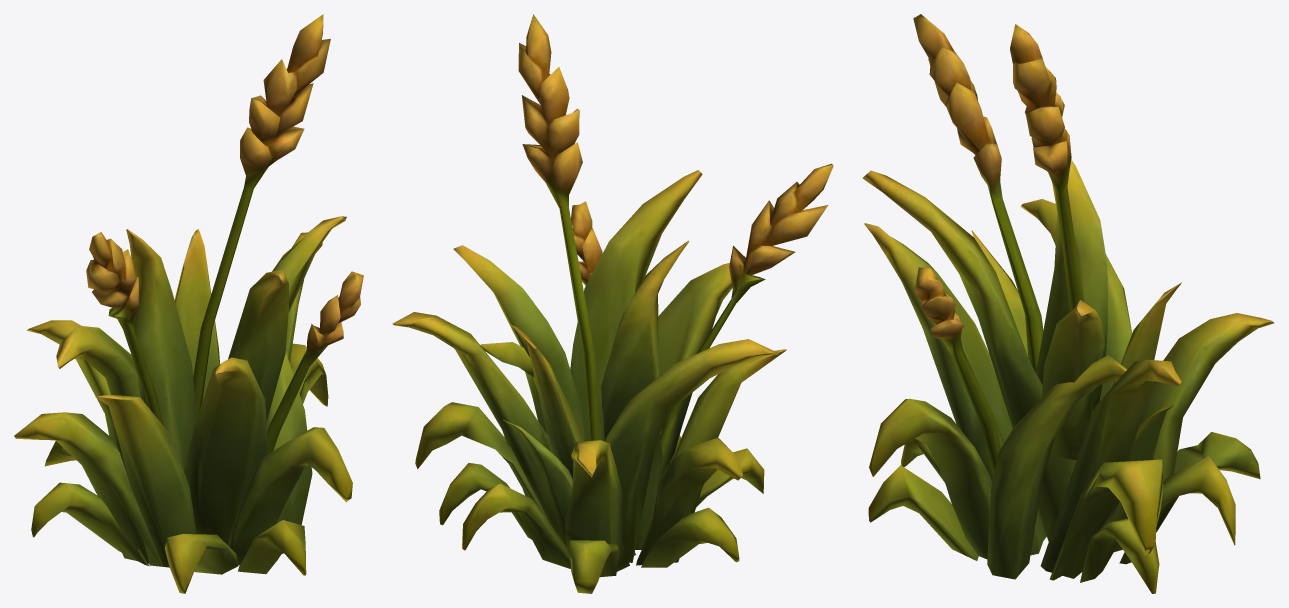
The model's file is herbes.glb.
3 views of the same model, side by side, from view 1: azimuth 30°, elevation 25°; view 2: azimuth 150°, elevation 25°; view 3: azimuth 270°, elevation 25° (orthographic). The views are drawn at different scales.
Visible parts, largest first — view 1: geometry_0; view 2: geometry_0; view 3: geometry_0.
Part boxes in pixels (left/top/right/bottom): geometry_0: left=14, top=14, right=363, bottom=593; geometry_0: left=392, top=14, right=833, bottom=593; geometry_0: left=862, top=14, right=1274, bottom=593.
Size of the model in its own units: 0.6685 by 0.9546 by 0.6235.
Materials: 1 (1 with a texture image).
